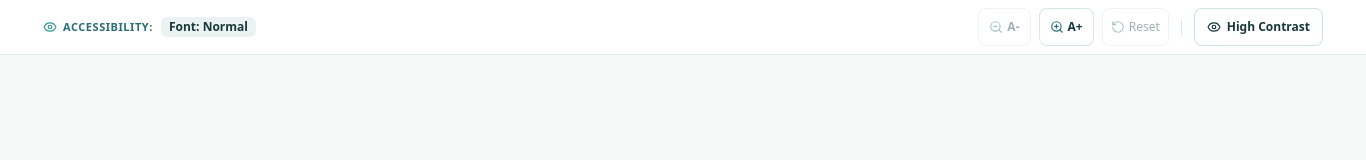
Test: Accessibility Controls & Context › steps font size down with A- button and resets with Reset button
Note: Go to extra-large
Click the button titled "Increase text size". click: (1066, 27)
box: [1038,8,1094,46]
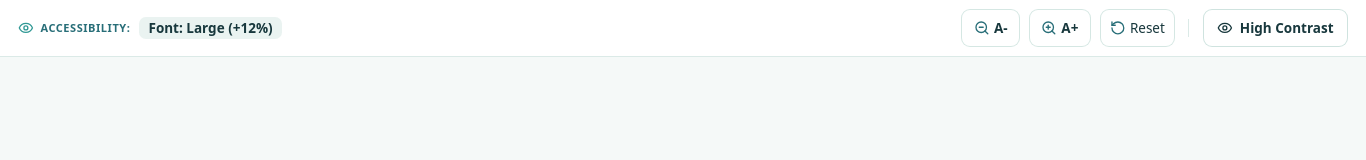
Click the button titled "Increase text size". click: (1060, 28)
box: [1029,9,1091,47]
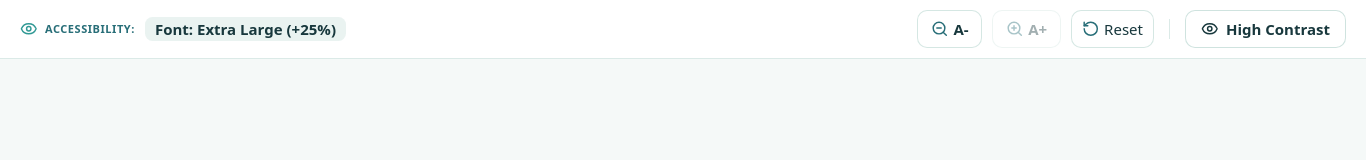
Result: the text "Font: Extra Large (+25%)" is shown at [145,16,346,42]
Note: Step down to large
Click the button titled "Decrease text size". click: (950, 29)
box: [918,10,982,48]
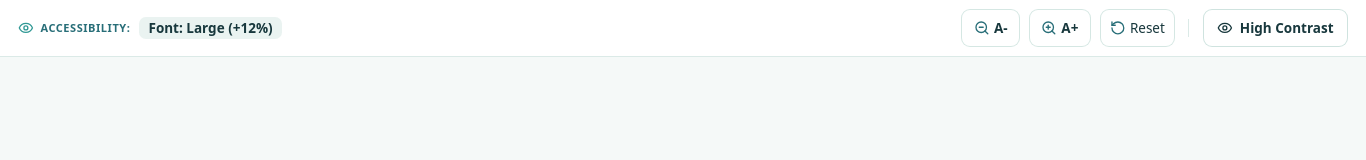
Result: the text "Font: Large (+12%)" is shown at [140,17,282,39]
Note: Reset back to normal
Click the button titled "Reset text size". click: (1137, 28)
box: [1100,9,1175,47]
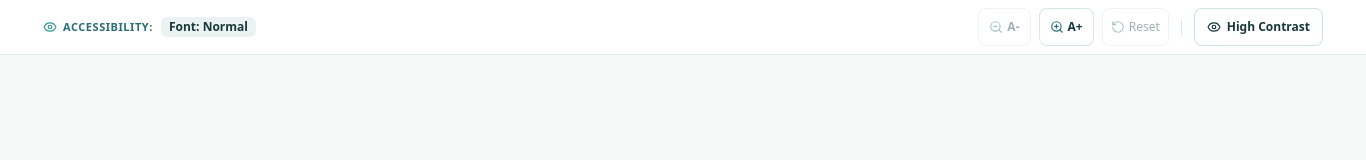
Result: the text "Font: Normal" is shown at [161,17,256,37]
